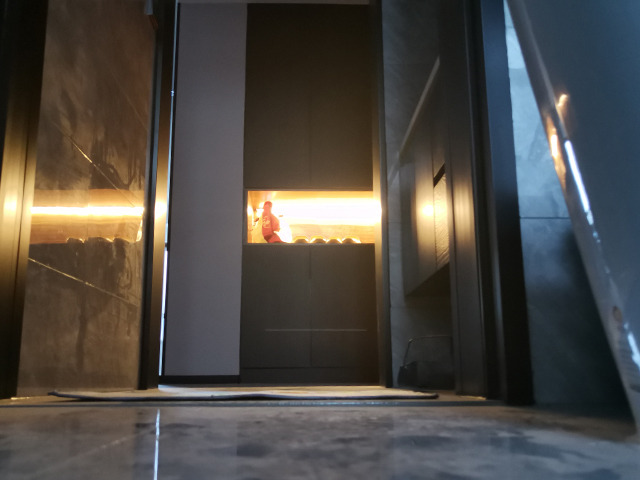cabinet: (234, 237, 384, 388)
carpet: (45, 384, 440, 403)
